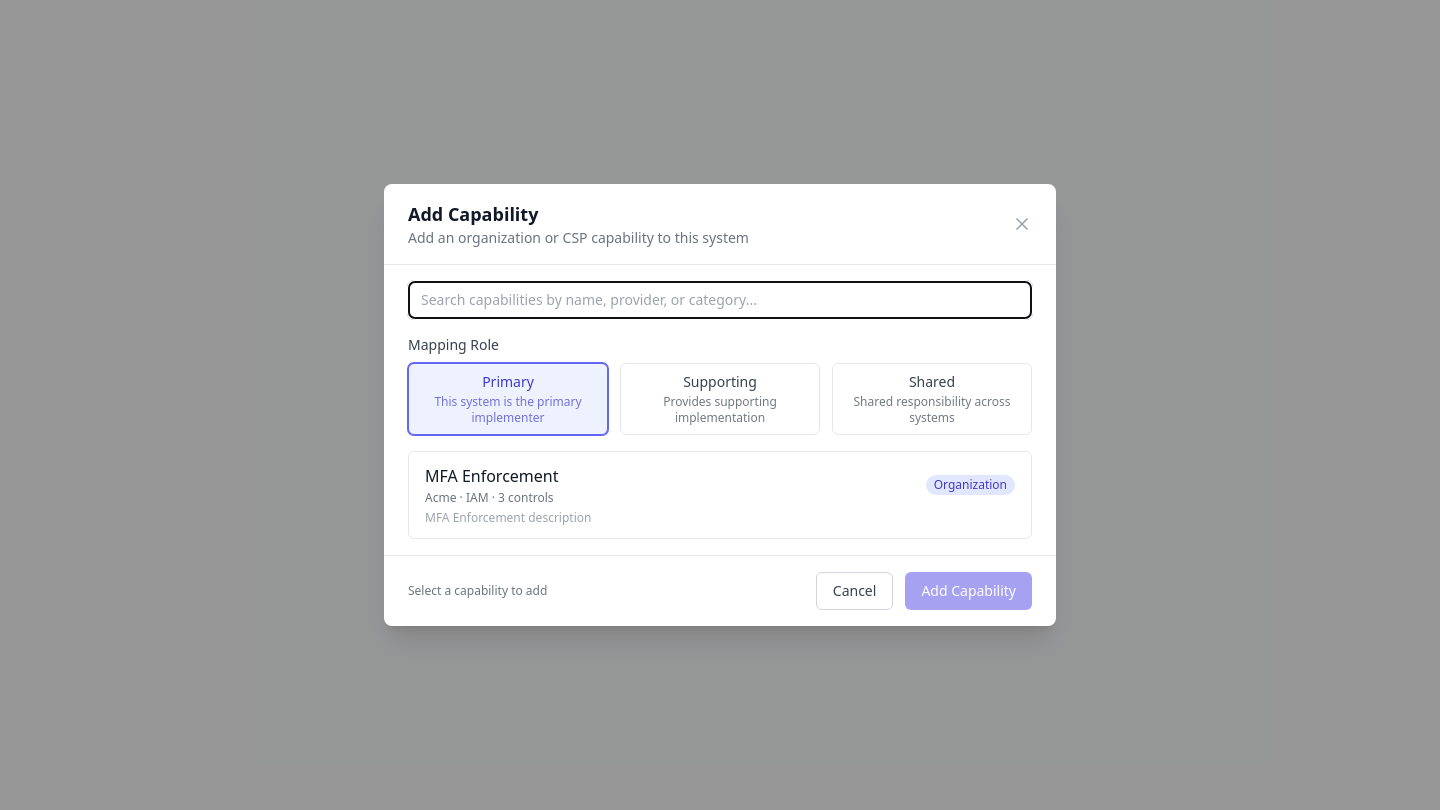
Scenario: AddCapabilityDialog — empty-state messages › shows "no match" copy when unlinked caps exist but search has no results
The image size is (1440, 810).
Expected: the text "MFA Enforcement" is shown, [425, 464, 558, 488]
// Simulate controlled input via fireEvent
Step 1. Type "zzz-no-match-zzz" into the field with placeholder "Search capabilities by name, provider, or category..." → (720, 300), box [408, 281, 1032, 319]
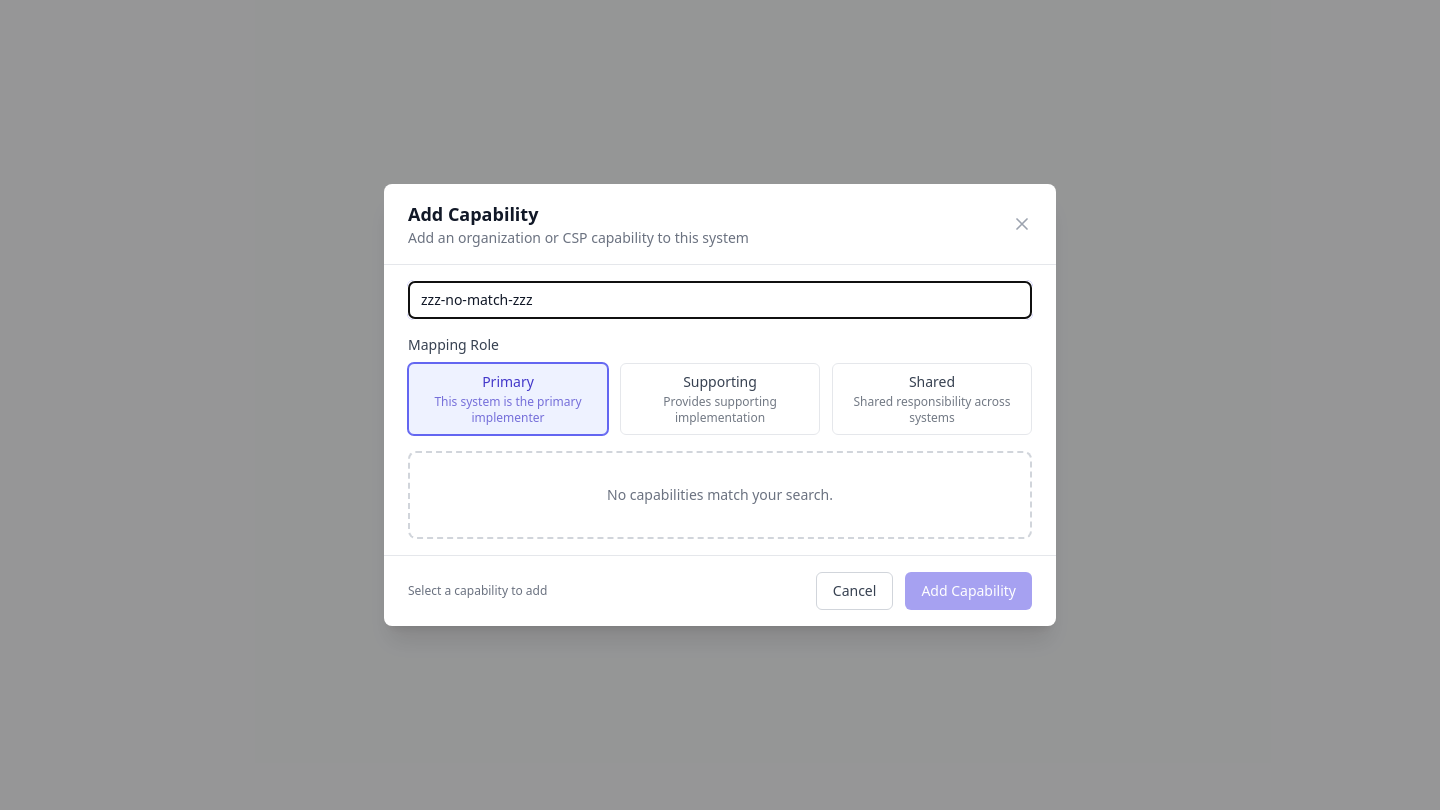
Expected: the text "No capabilities match your search." is shown, [607, 485, 833, 504]
